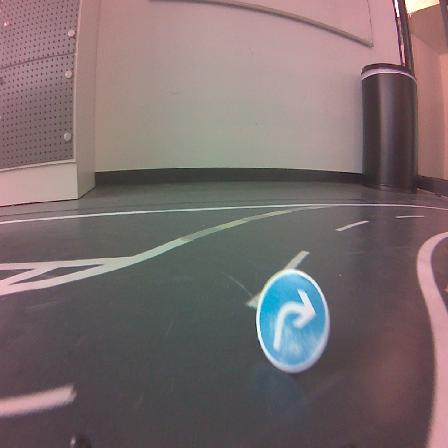RIGHT_TURN: (256, 269, 329, 372)
